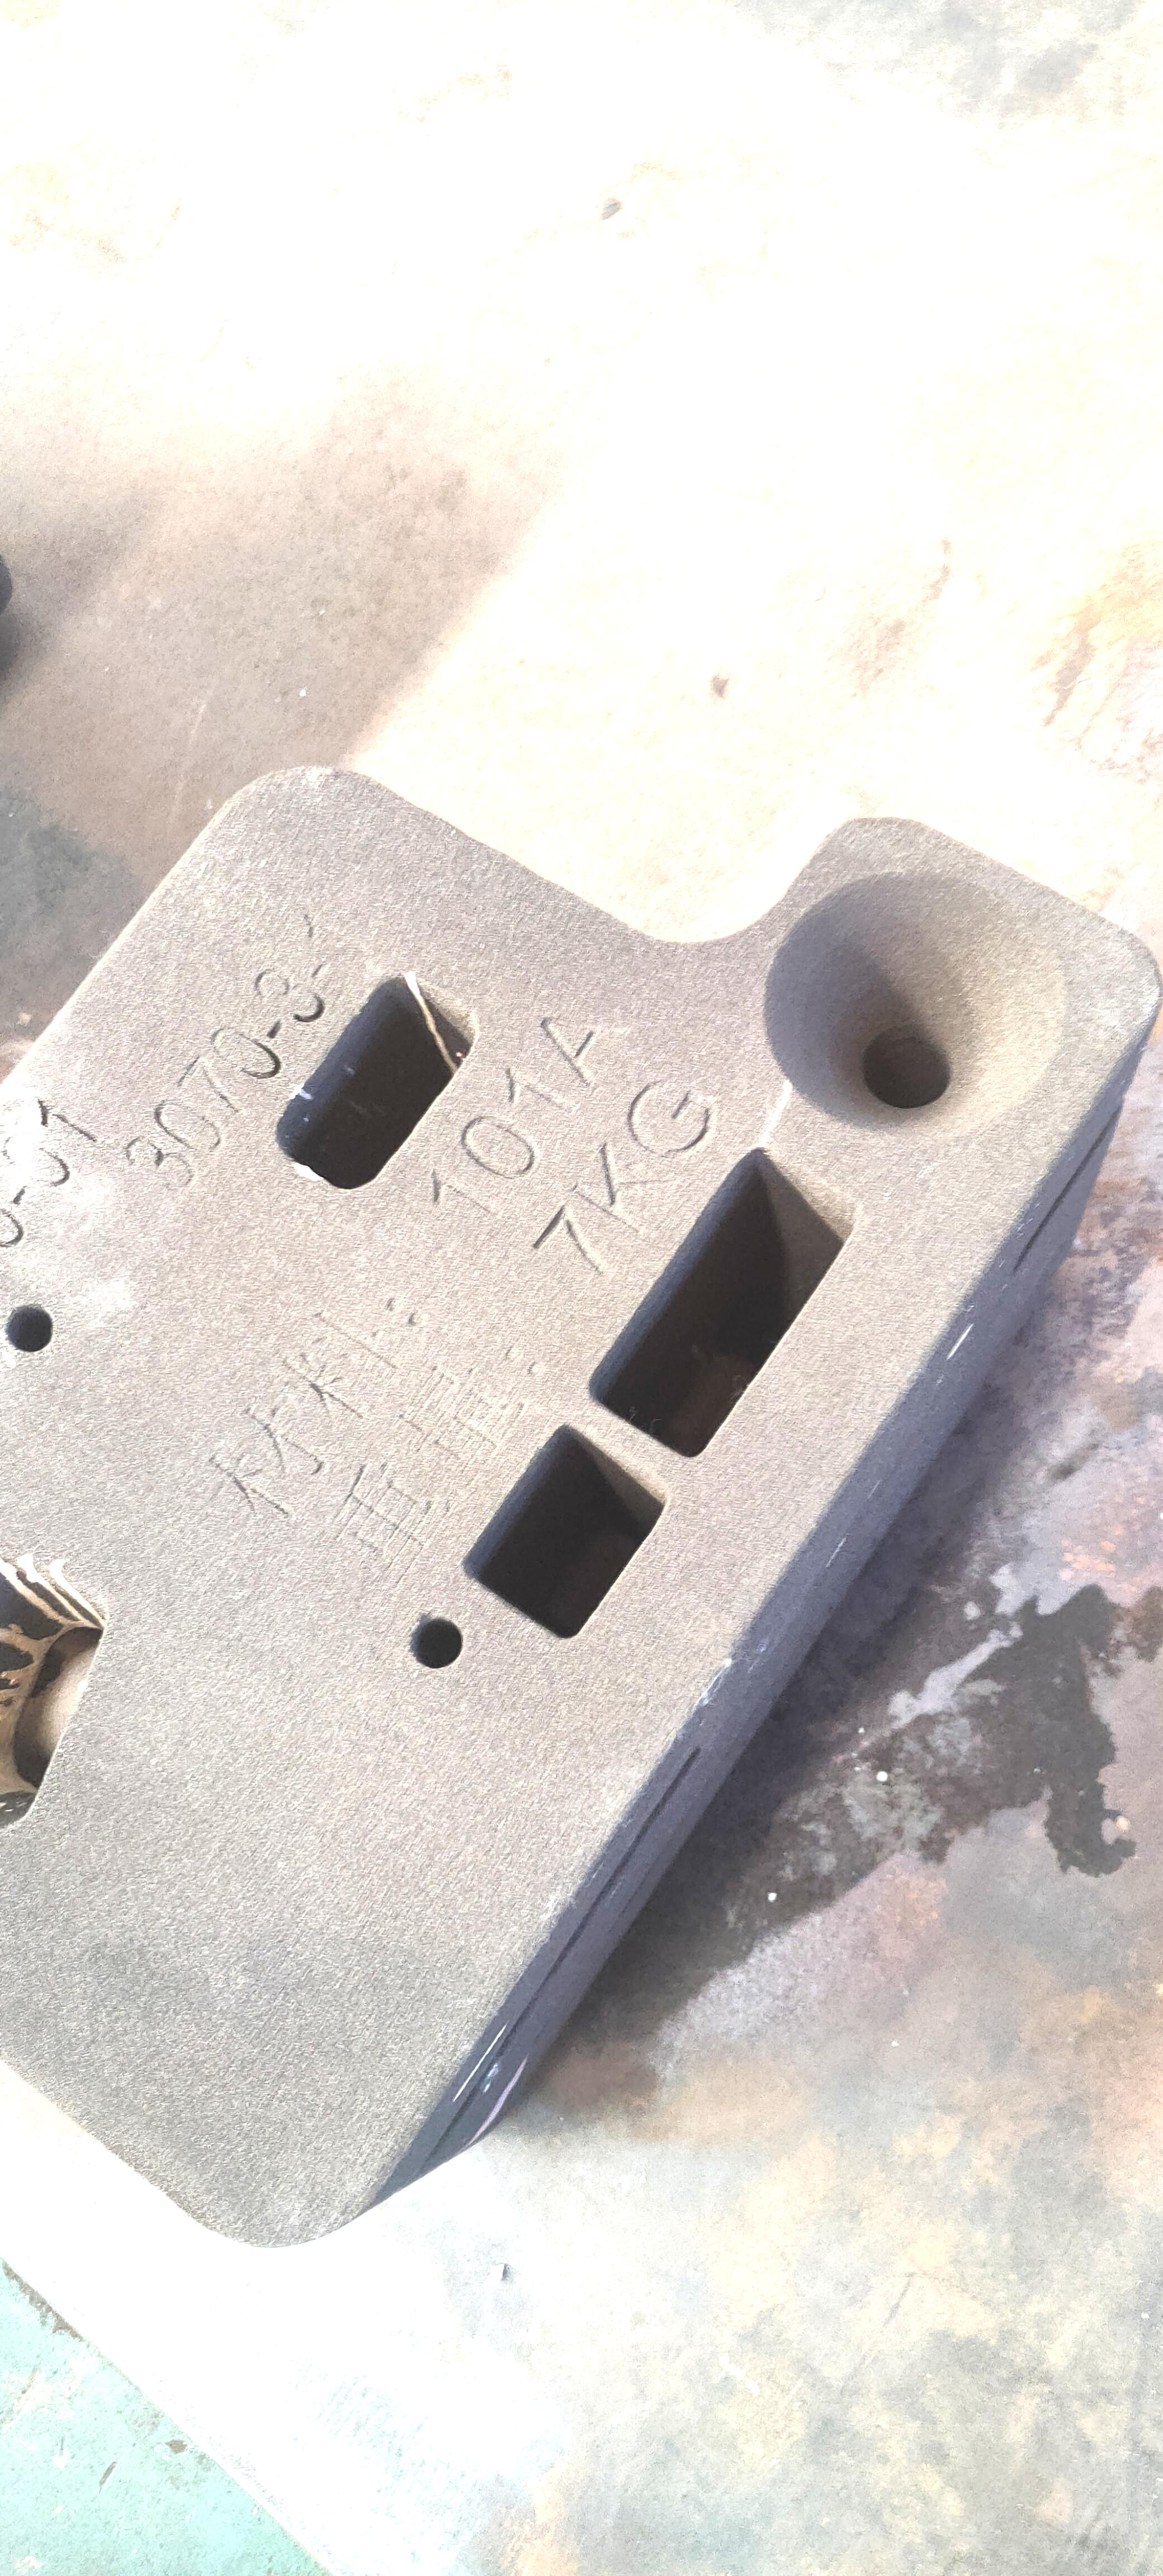pouring hole: (764, 871, 1060, 1140)
